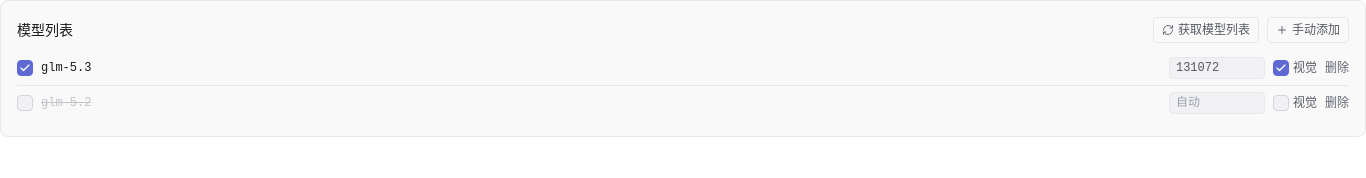
ProviderModelList › fetchModels 失败 → 显示错误信息且不触发 addModel
Expected: the text "glm-5.3" is shown, [41,61,91,75]
Click the button "获取模型列表".
click(1206, 30)  # box [1153,17,1259,43]
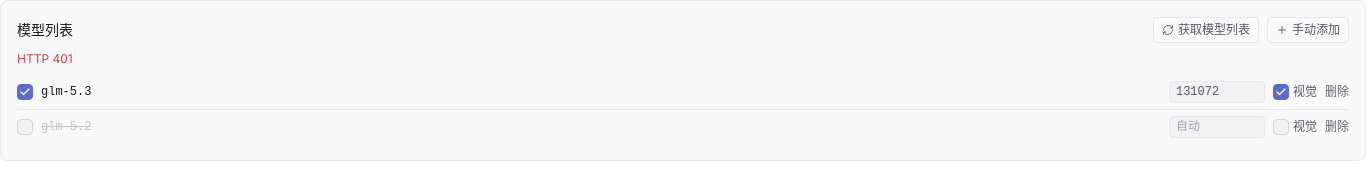
Expected: the text "HTTP 401" is shown, [17,51,73,66]
